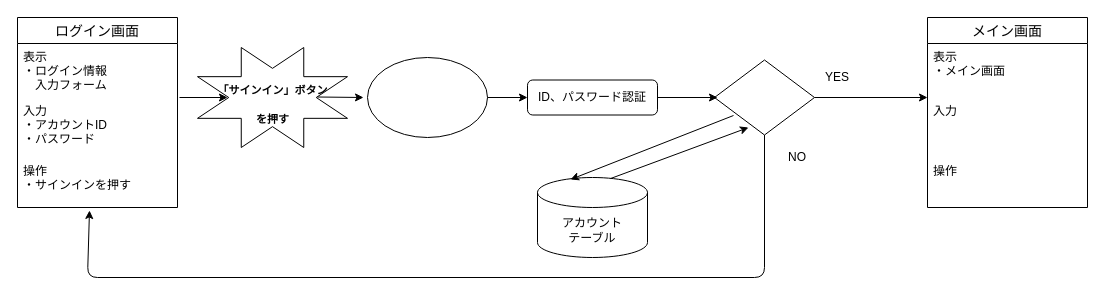
This 1105x303 diagram has some shape labels left out. The centre of each missing label's shape, as x and y in pixels:
ログイン処理をする: (x=427, y=97)
ログイン認証: (x=764, y=97)
